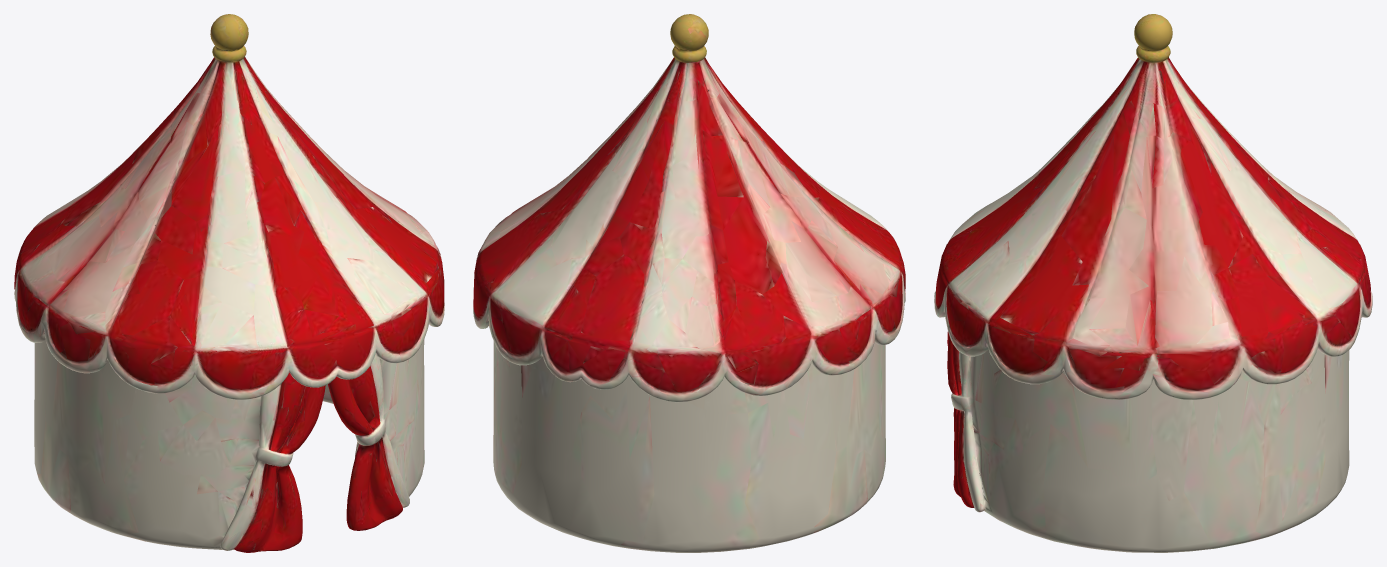
The picture shows the model from 3 angles, left to right: view 1: azimuth 30°, elevation 25°; view 2: azimuth 150°, elevation 25°; view 3: azimuth 270°, elevation 25°; orthographic projection.
Size of the model in its own units: 1.64 by 1.9 by 1.65.
Materials: 1 (1 with a texture image).
